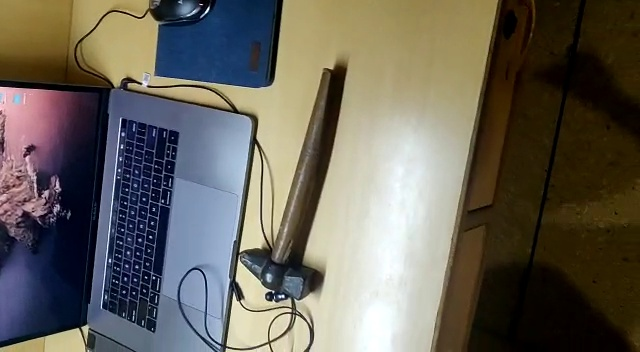hammer: (237, 66, 341, 299)
